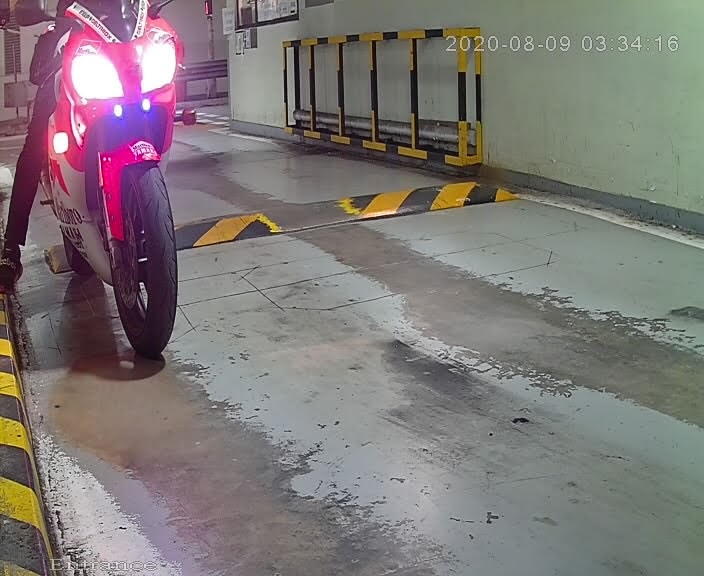motorcycle: (4, 1, 209, 360)
